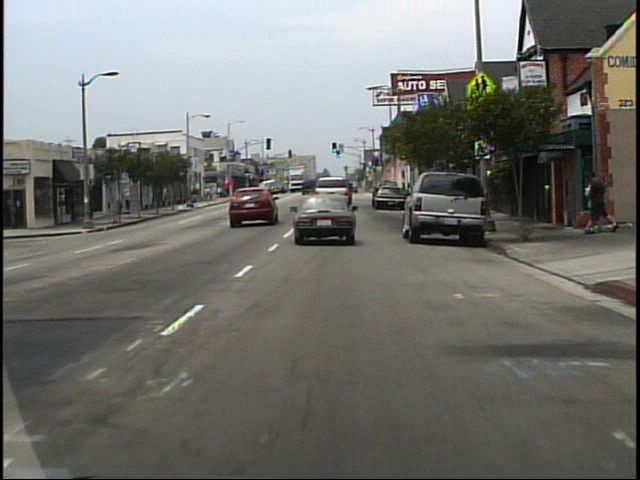person: (588, 165, 615, 233), (583, 172, 605, 232), (125, 186, 136, 214)
